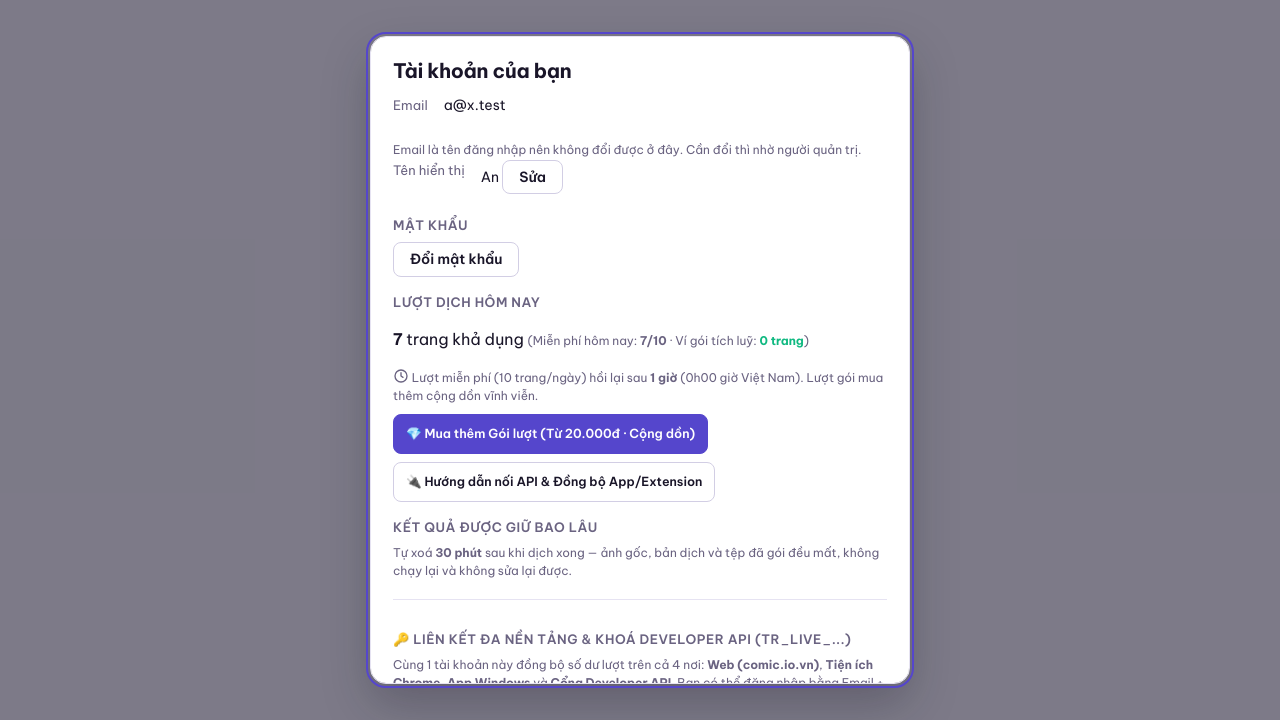
Test: E56 — sửa tài khoản › đổi được tên hiển thị và báo lên App để header cập nhật
Click the button "Sửa": (533, 177) [502,160,563,194]
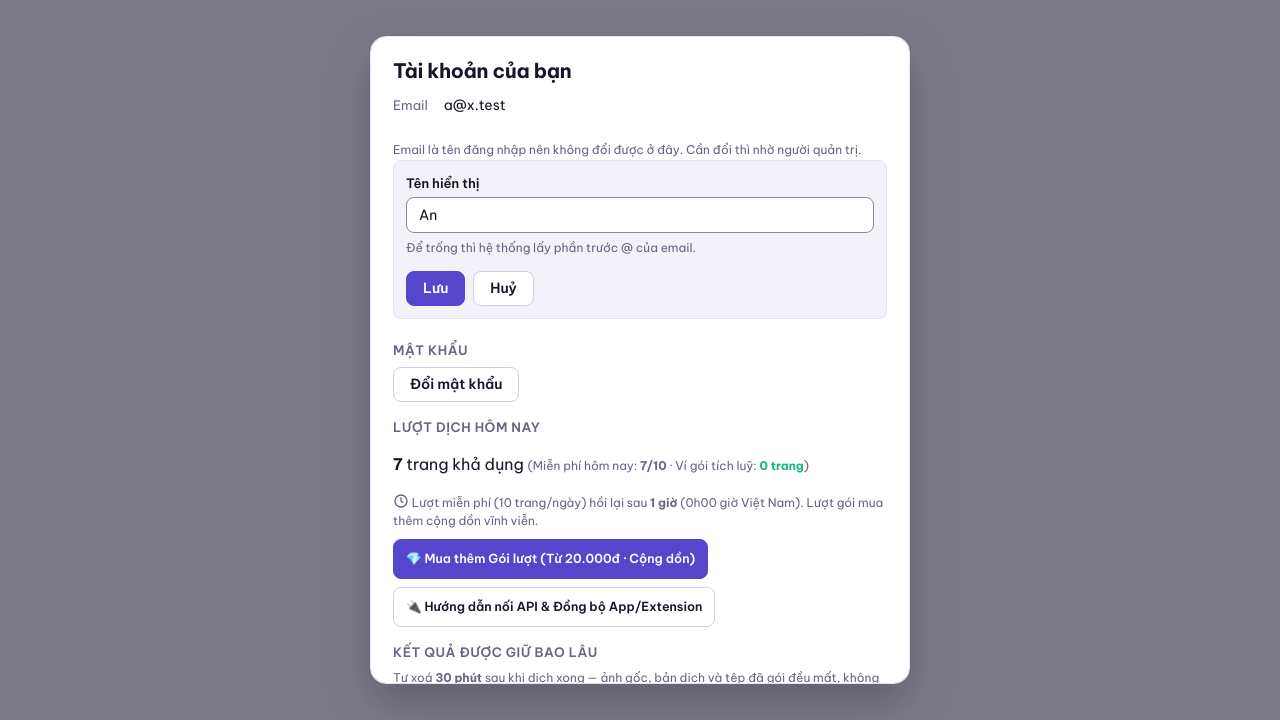
Replace the text in the field labelled "Tên hiển thị" with "Tên Mới": (640, 215) [406,197,874,233]
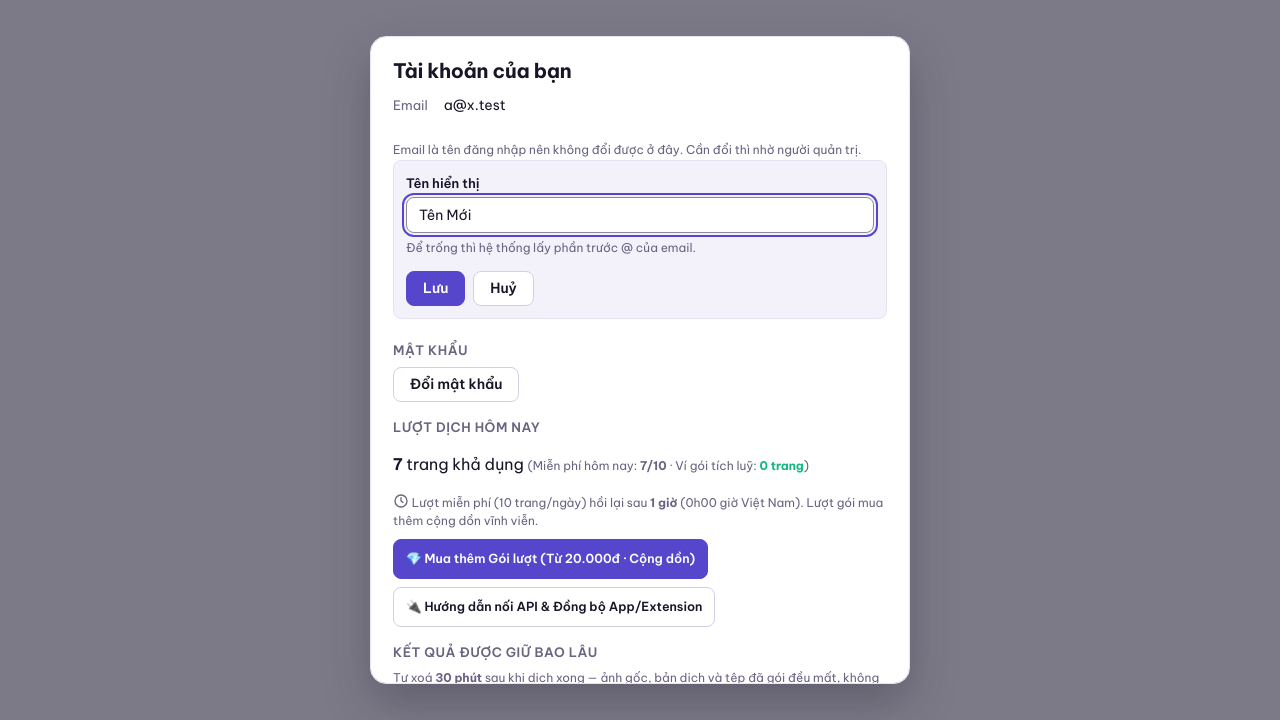
Click the button "Lưu": (436, 289) [406,271,465,306]
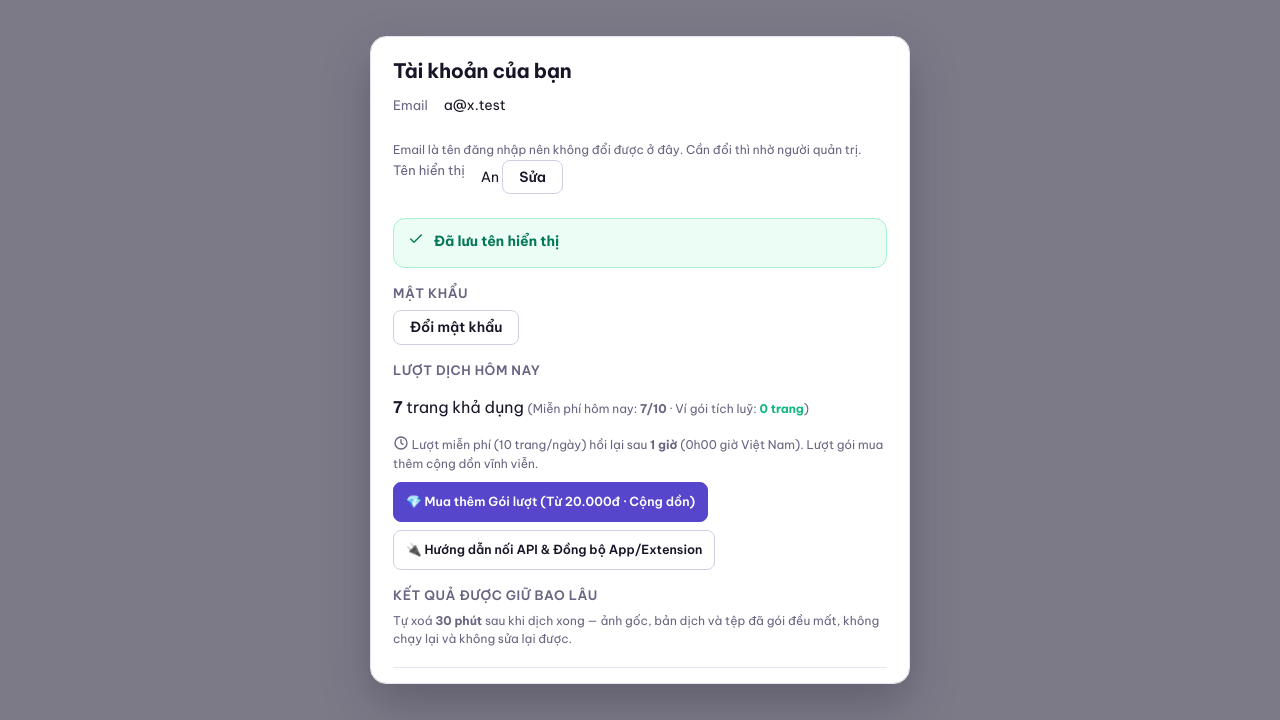
Now the text "Đã lưu tên hiển thị" is shown, box [434,232,559,250]
